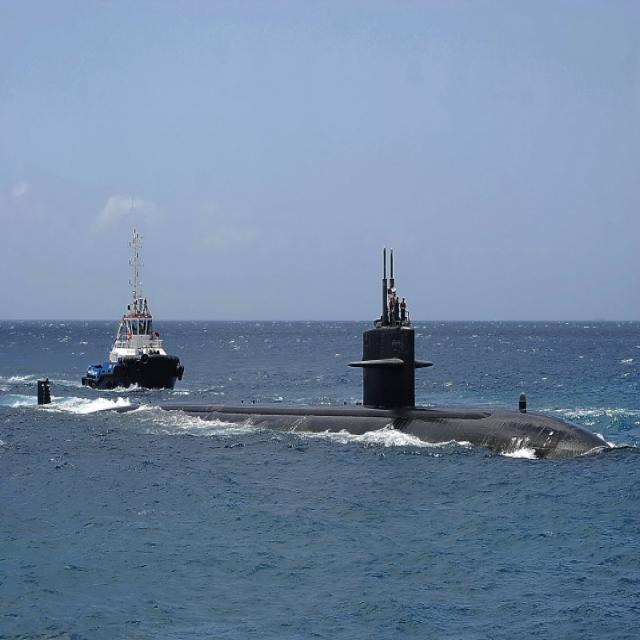submarine: (34, 329, 618, 452)
